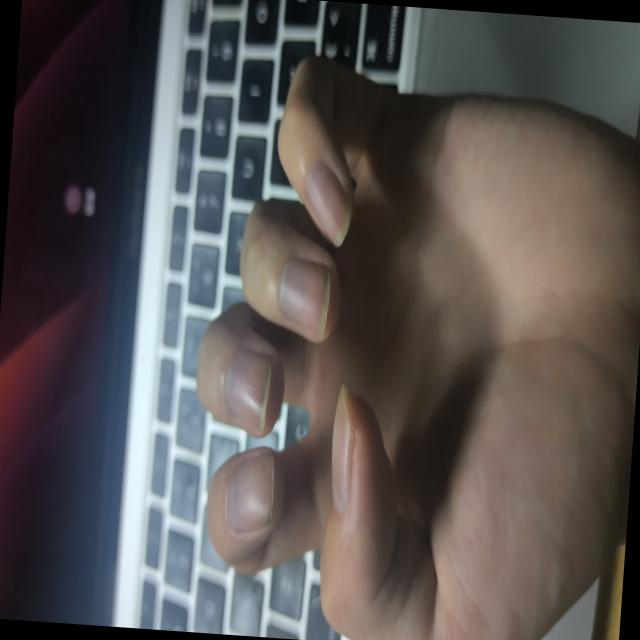Nail: (279, 257, 330, 333), (306, 160, 351, 246), (227, 451, 273, 533), (223, 349, 271, 427), (331, 382, 354, 513)
